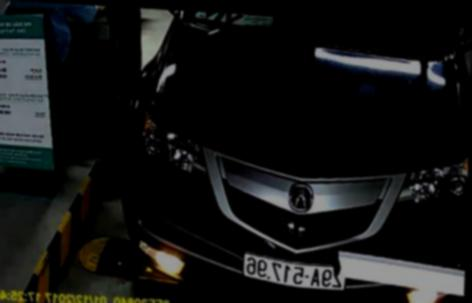License_Plate: (239, 254, 351, 292)
